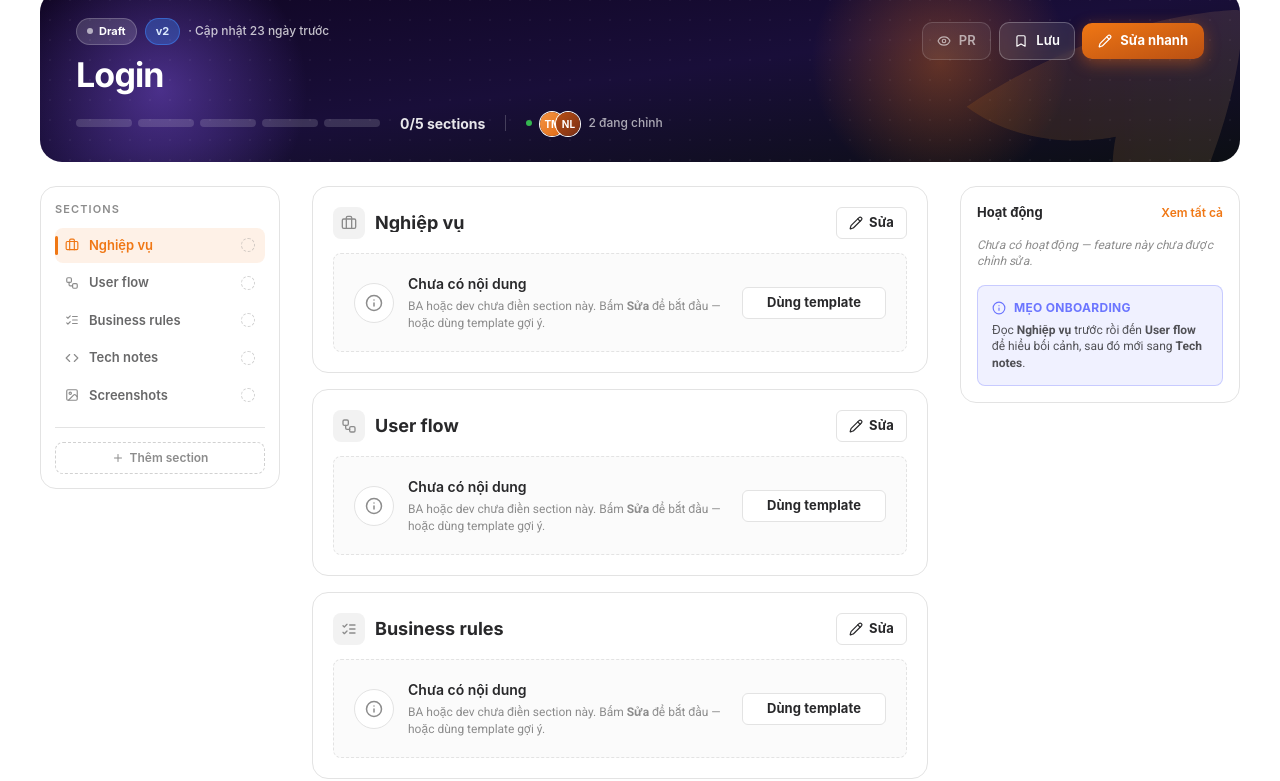
Test: SectionEditor — edit → save → collapse › independent per-section state: opening B while A is open keeps both
What coordinates should you click on to do the following:
click the button with aria-label "sửa section nghiệp vụ"
I would click on:
 (872, 223)
Its box is [836,207,907,239].
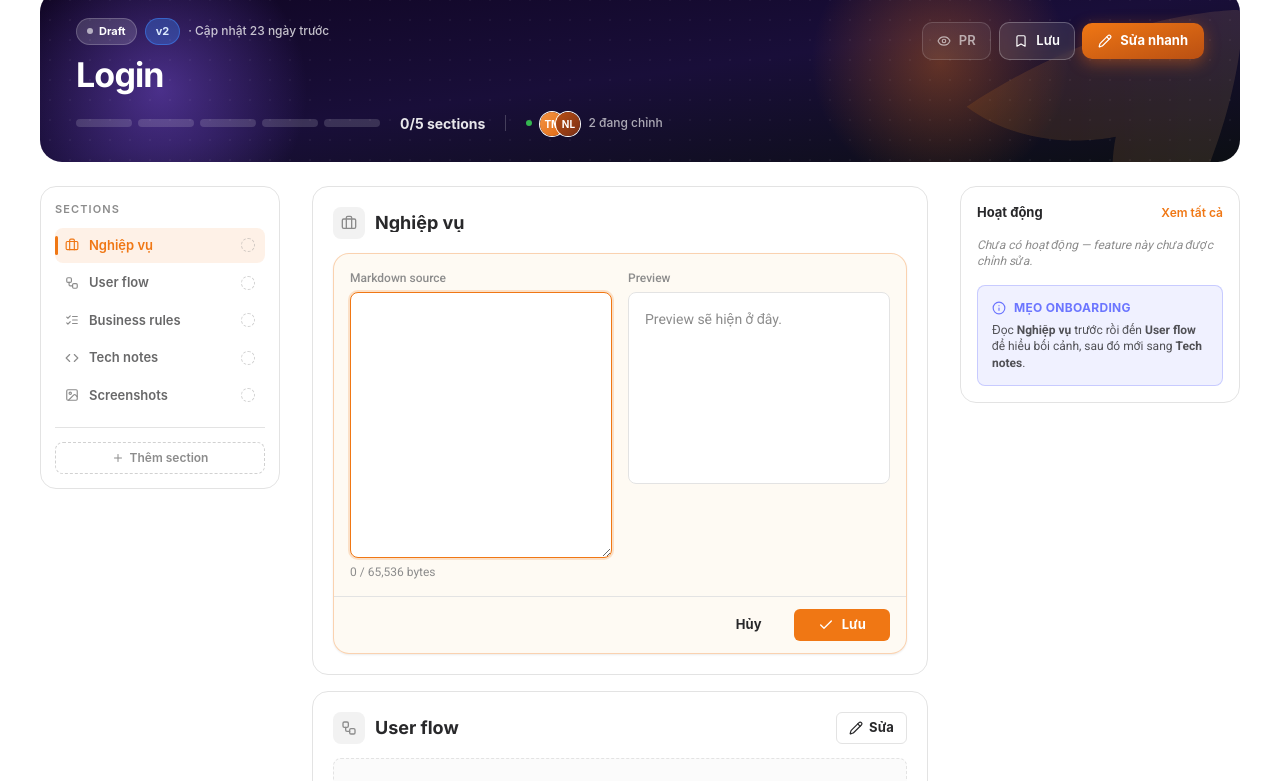
What coordinates should you click on to do the following:
click the button with aria-label "sửa section user flow"
I would click on:
 (872, 728)
Its box is [836,712,907,744].
(page scrolled)
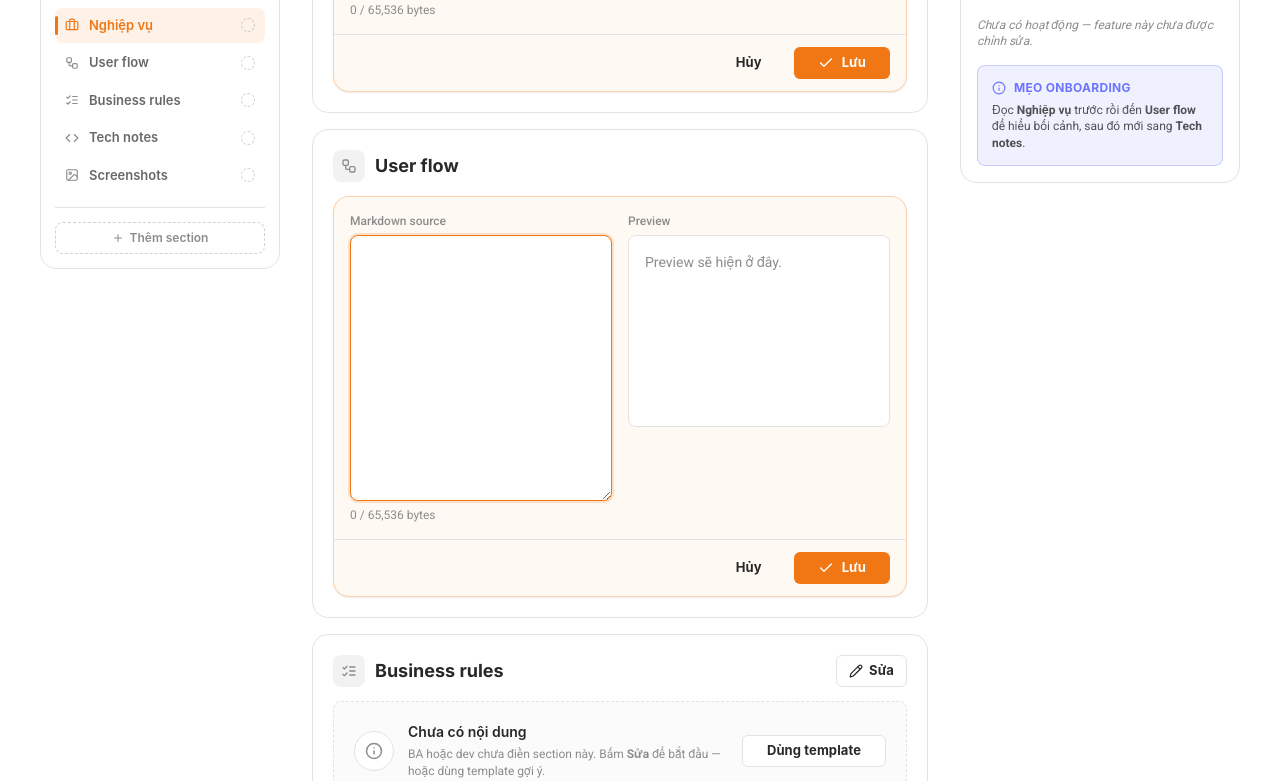
Result: the form named "đang chỉnh sửa user-flow" is shown at [333,196,907,597]
